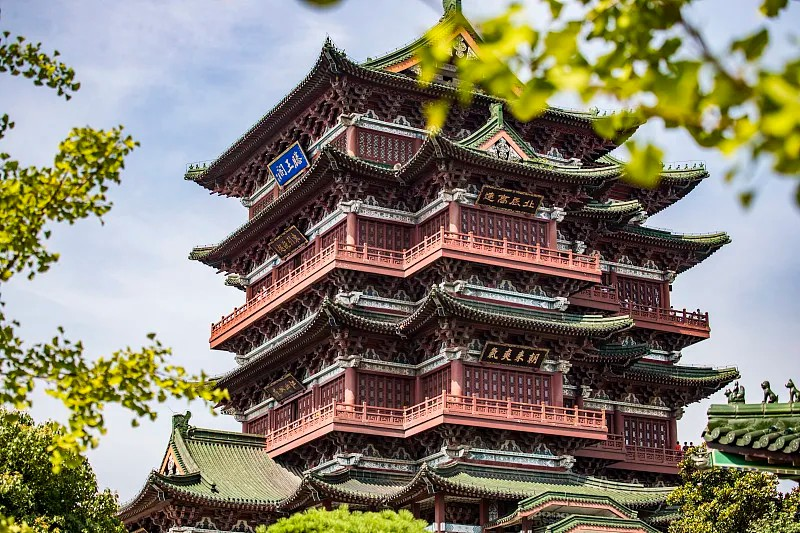Teng: (112, 7, 740, 533)
